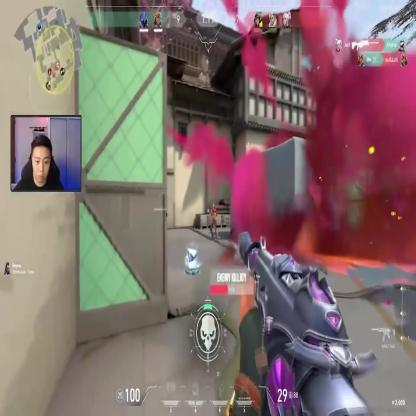enemy: (210, 203, 218, 240)
enemy_head: (212, 203, 215, 210)
